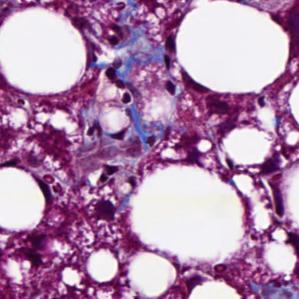inflammation: (100, 58, 148, 115), (86, 178, 124, 230)
